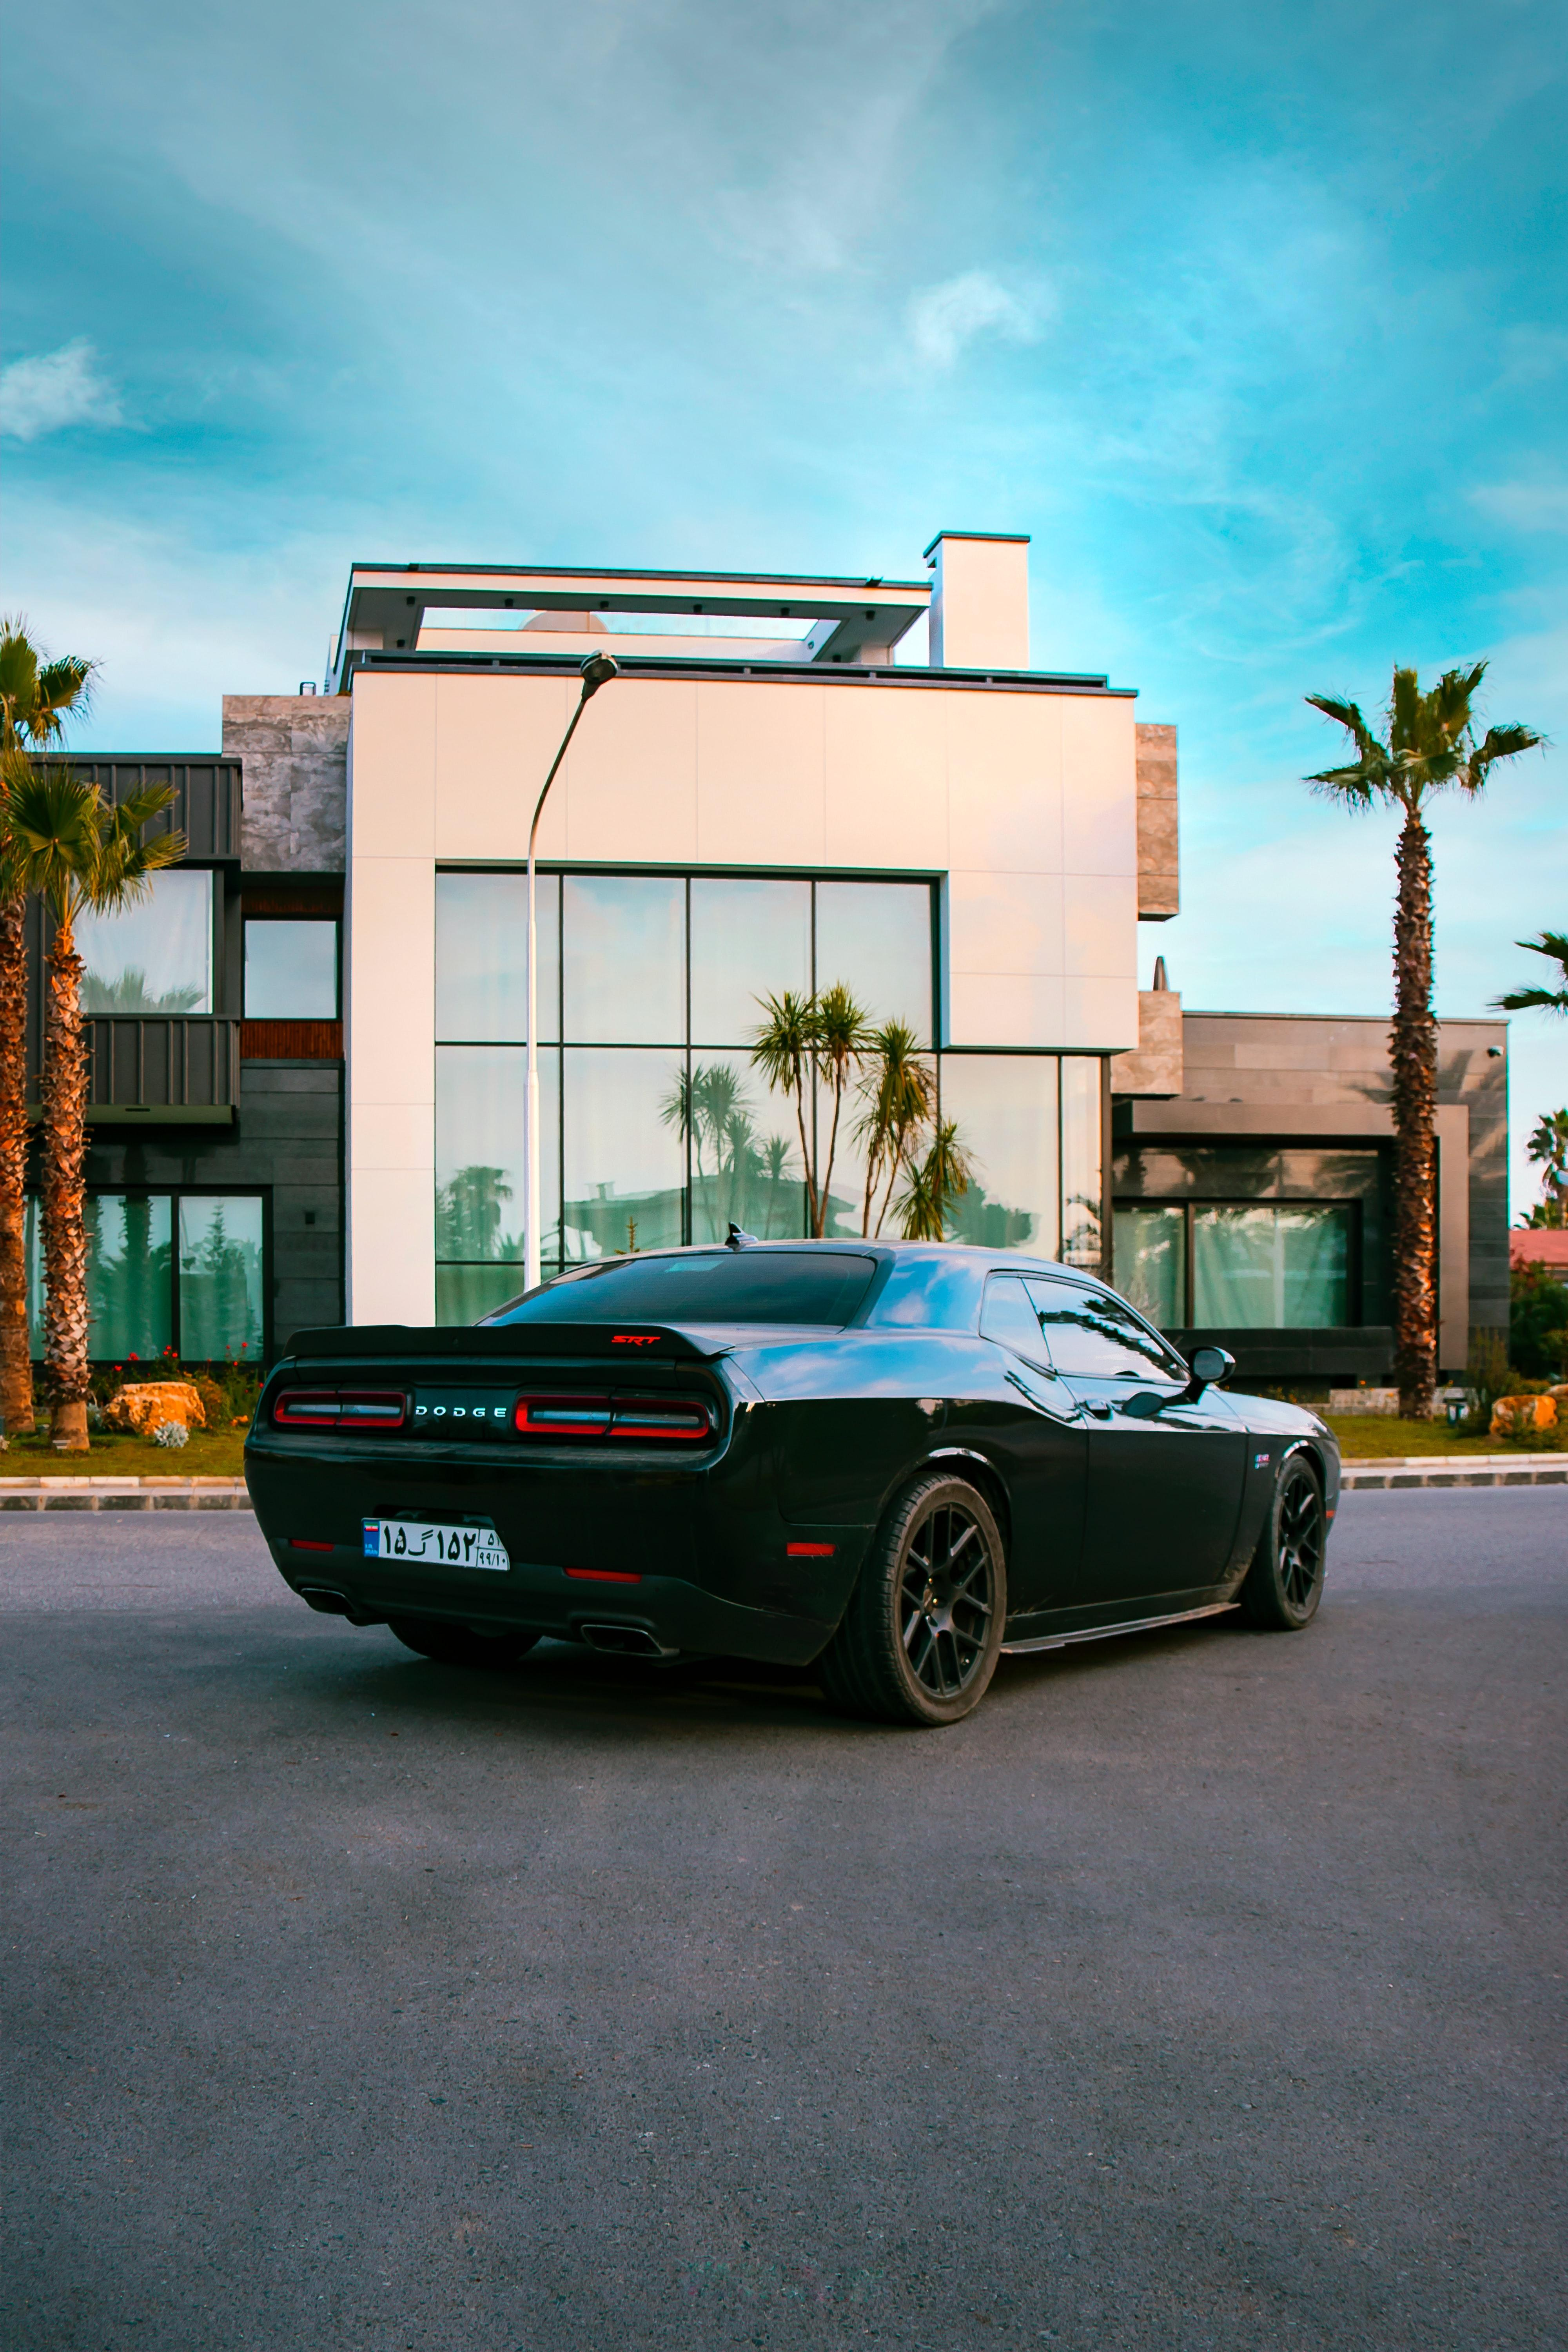dodge: (399, 1388, 530, 1440)
